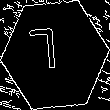L_S: (39, 28, 71, 82)
